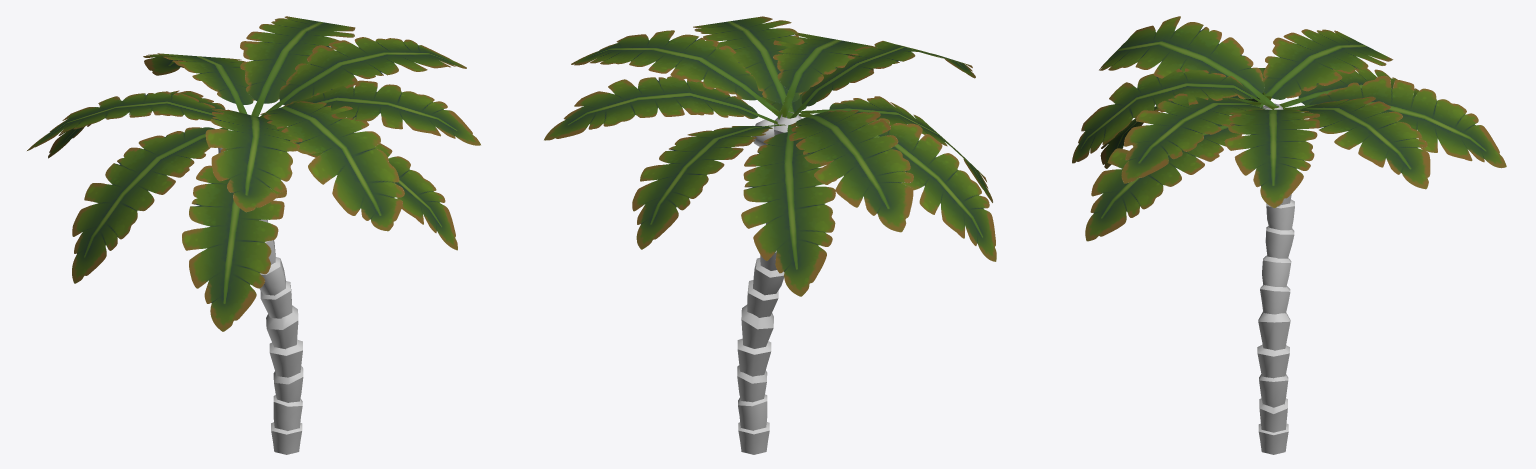
Rendered from palmera.fbx.
The picture shows the model from 3 angles, left to right: view 1: azimuth 30°, elevation 25°; view 2: azimuth 150°, elevation 25°; view 3: azimuth 270°, elevation 25°; orthographic projection. The views are drawn at different scales.
Visible parts, largest first — view 1: Vegetacion2, Cylinder004; view 2: Vegetacion2, Cylinder004; view 3: Vegetacion2, Cylinder004.
Boxes of the visible parts, left/top/right/bottom form: Vegetacion2: left=27, top=16, right=480, bottom=331; Cylinder004: left=218, top=148, right=303, bottom=454; Vegetacion2: left=544, top=16, right=996, bottom=296; Cylinder004: left=737, top=111, right=802, bottom=454; Vegetacion2: left=1072, top=16, right=1506, bottom=241; Cylinder004: left=1257, top=103, right=1294, bottom=454.
Bounding box in the file's own units: 460 × 404 × 459.
